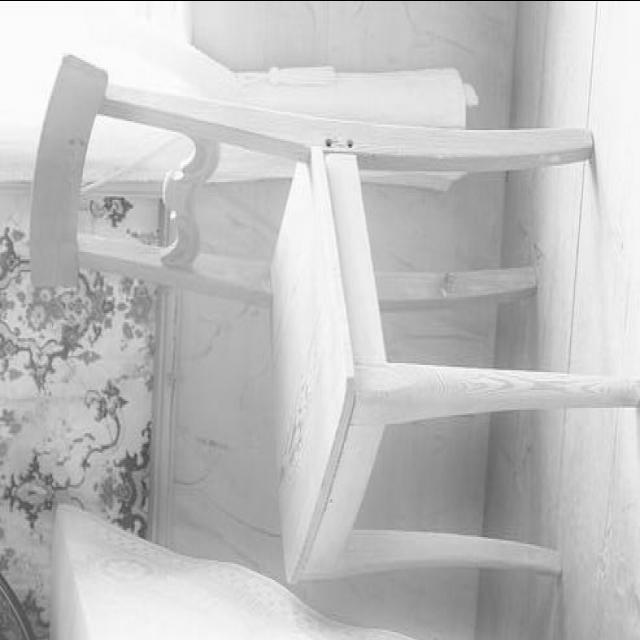chair: (30, 51, 639, 584)
